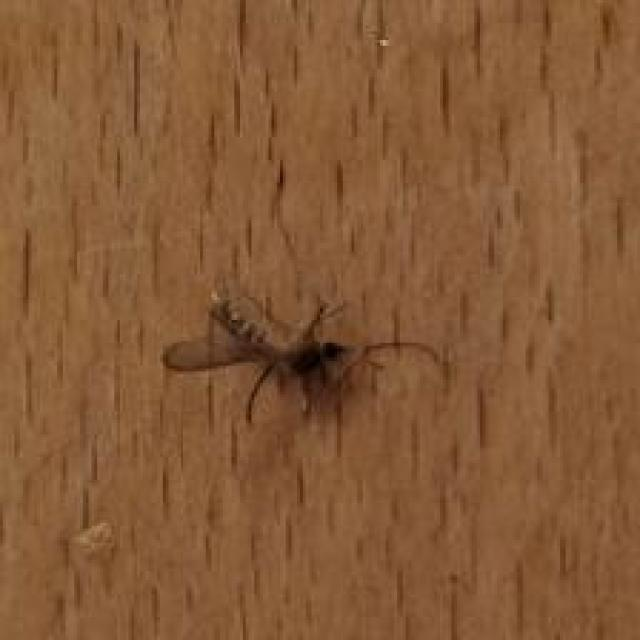Culex: (161, 283, 450, 428)
